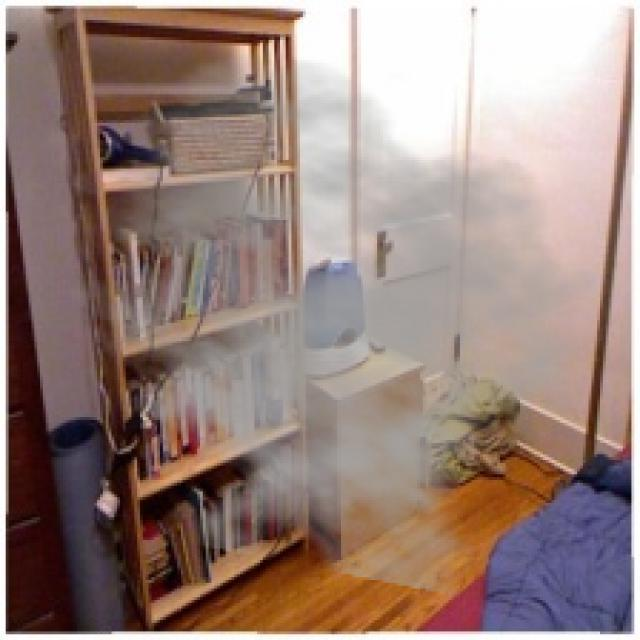Smoke: (45, 52, 606, 598)
